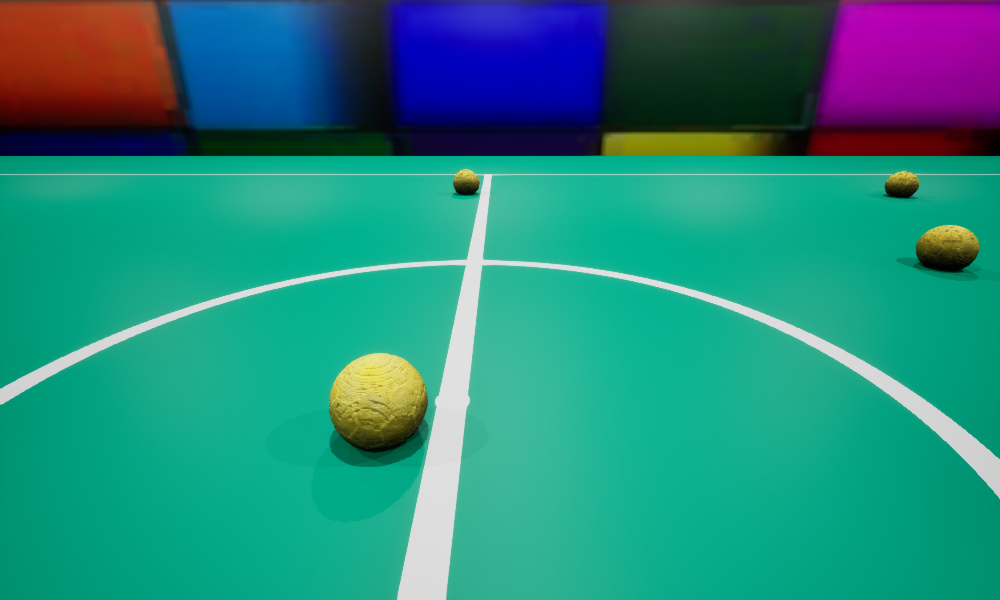b: (329, 353, 427, 451), (916, 225, 978, 270), (884, 171, 918, 197), (453, 169, 479, 194)
